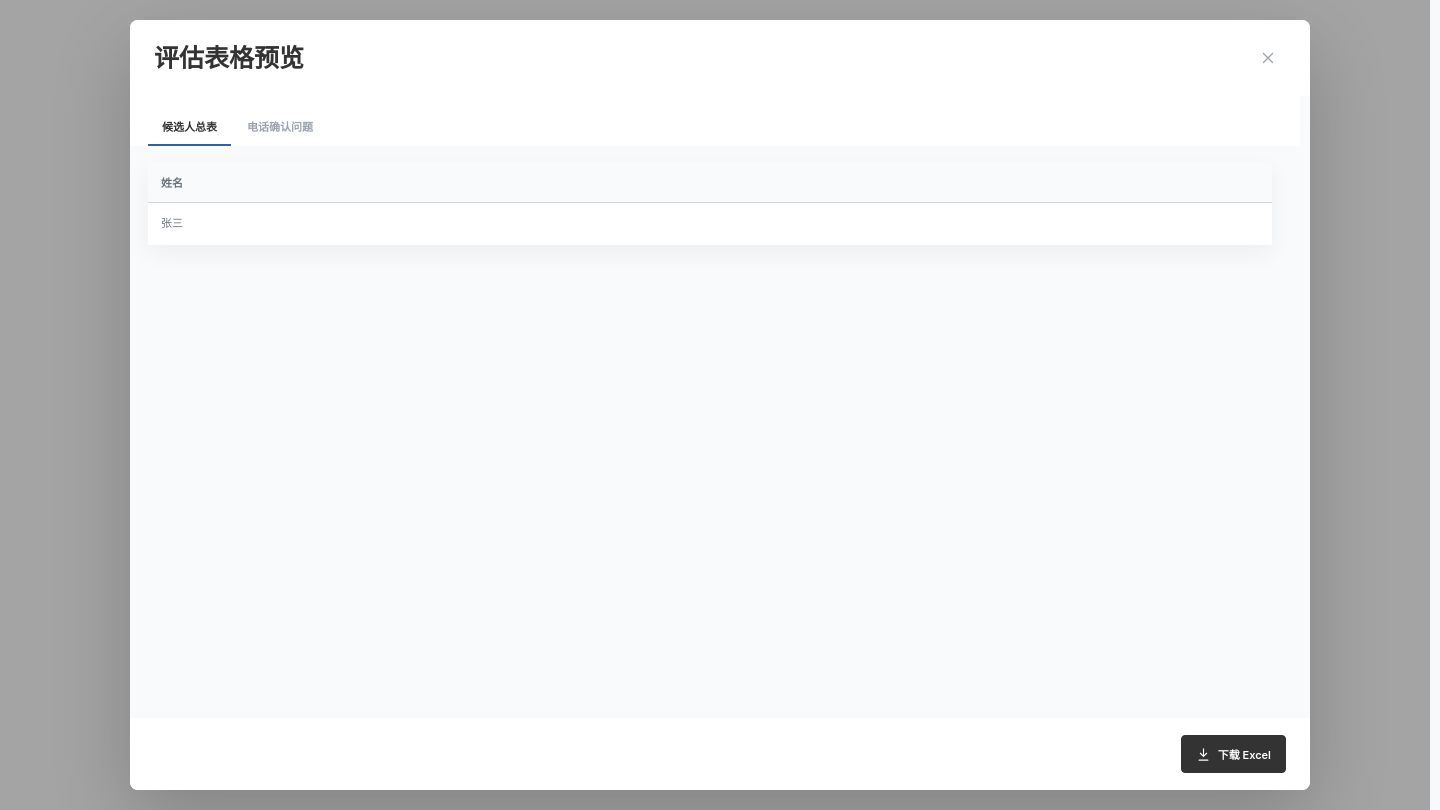
Scenario: 产物预览 › 工作簿能够在工作表之间切换
The image size is (1440, 810).
Click the tab "电话确认问题" at [280, 127], box [233, 108, 327, 146]
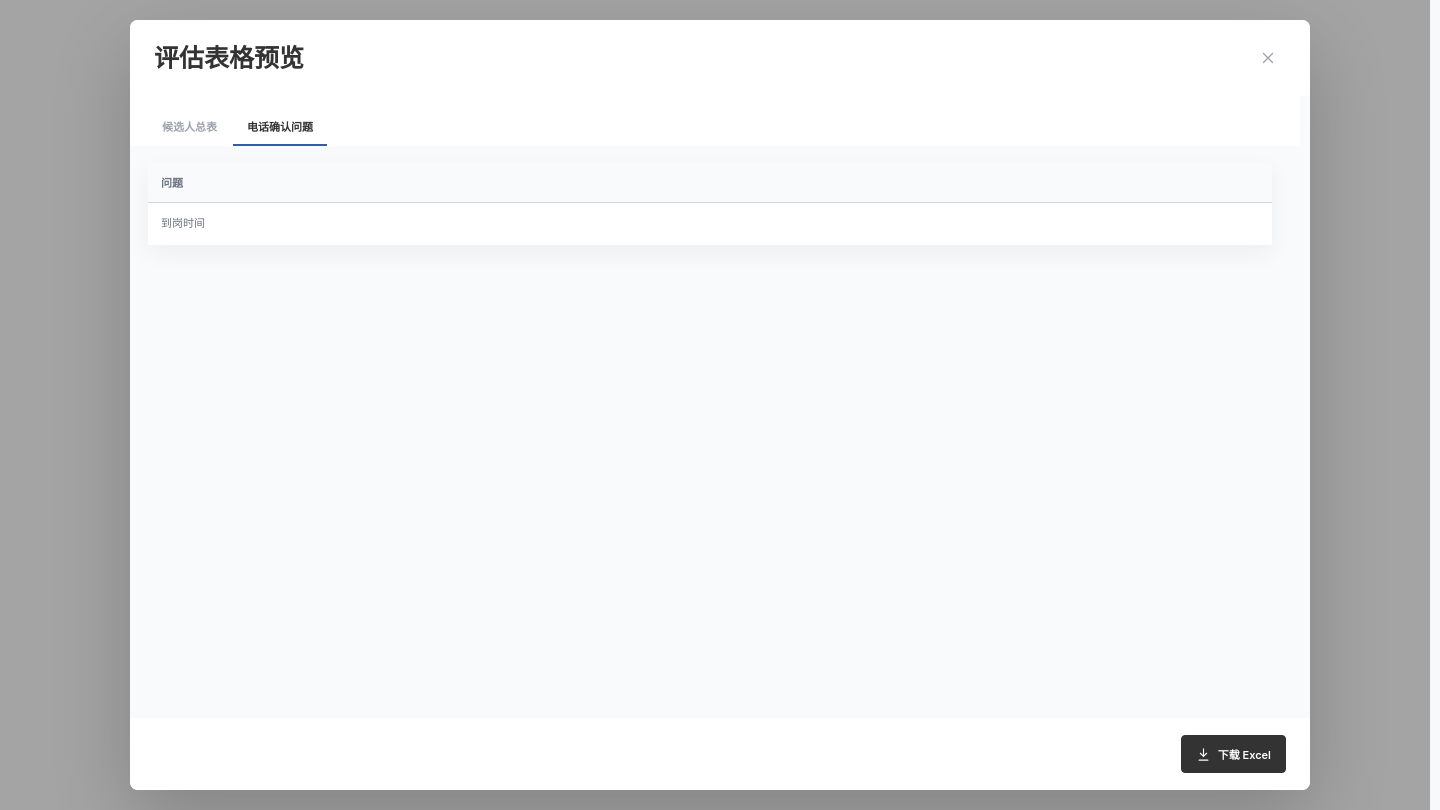
Result: the column heading "问题" is shown at [148, 162, 1272, 203]
Result: the cell "到岗时间" is shown at [148, 203, 1272, 245]
